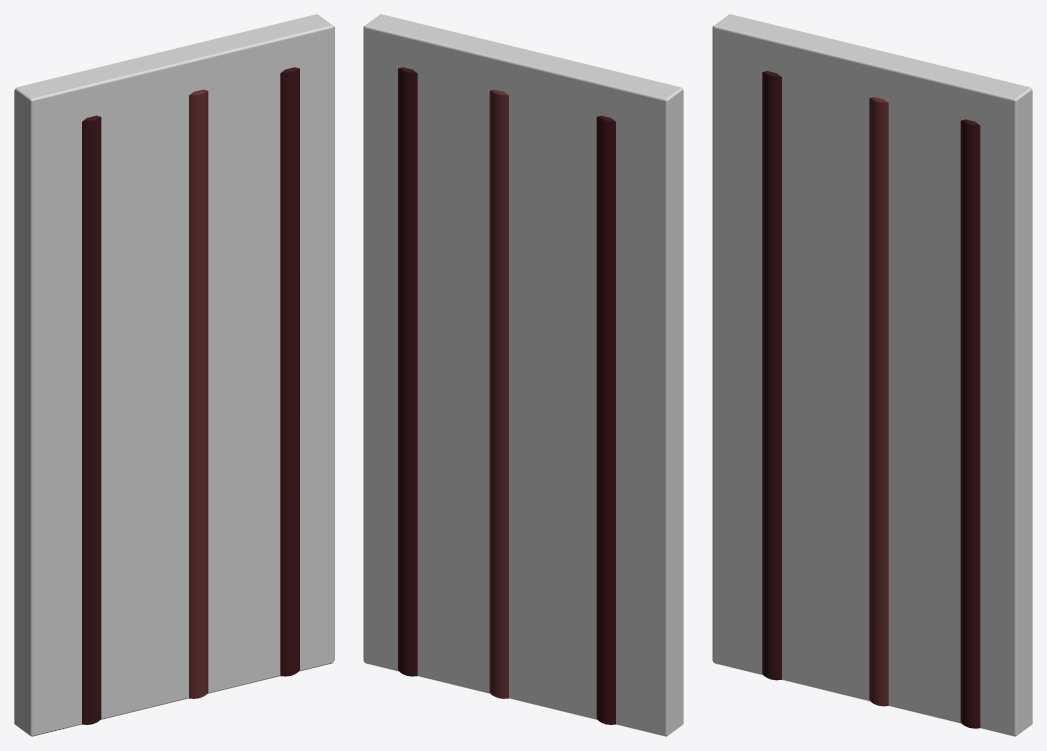
File: living-cave-wall-sinew.e7d08e4b.glb
3 views of the same model, side by side, from view 1: azimuth 30°, elevation 25°; view 2: azimuth 150°, elevation 25°; view 3: azimuth 330°, elevation 25° (orthographic).
Parts seen in each view (by area): view 1: body; view 2: body; view 3: body.
Boxes of the visible parts, <box> form: body: <box>14,14,334,736</box>; body: <box>363,14,683,736</box>; body: <box>712,14,1032,736</box>.
Size of the model in its own units: 1 by 2 by 0.13.
